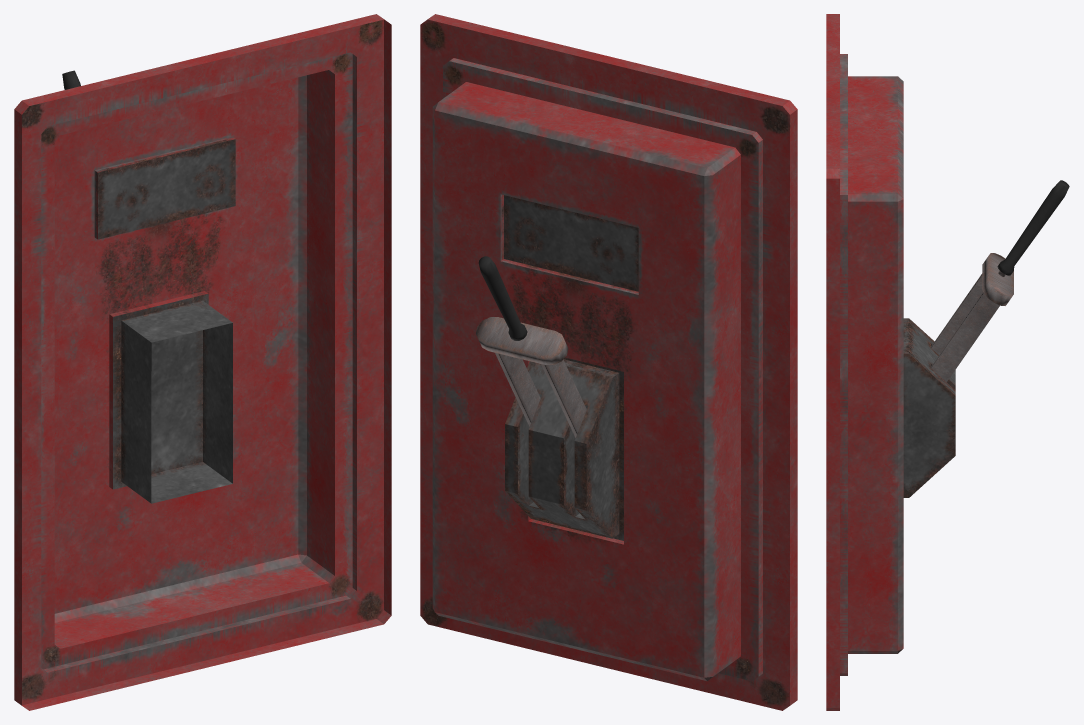
The model's file is lever.gltf.
3 renders of one model, left to right at view 1: azimuth 30°, elevation 25°; view 2: azimuth 150°, elevation 25°; view 3: azimuth 270°, elevation 25°, orthographic. The views are drawn at different scales.
Visible parts, largest first — view 1: Panel; view 2: Panel, Lever; view 3: Panel, Lever.
Part boxes in pixels (x1,y1,x2,y2): Panel: (14, 14, 391, 710); Panel: (420, 14, 797, 710); Lever: (476, 256, 586, 437); Panel: (826, 14, 955, 710); Lever: (931, 180, 1069, 382).
Bounding box in the file's own units: 26.37 × 41.24 × 16.78.
2 materials, 2 textured.
